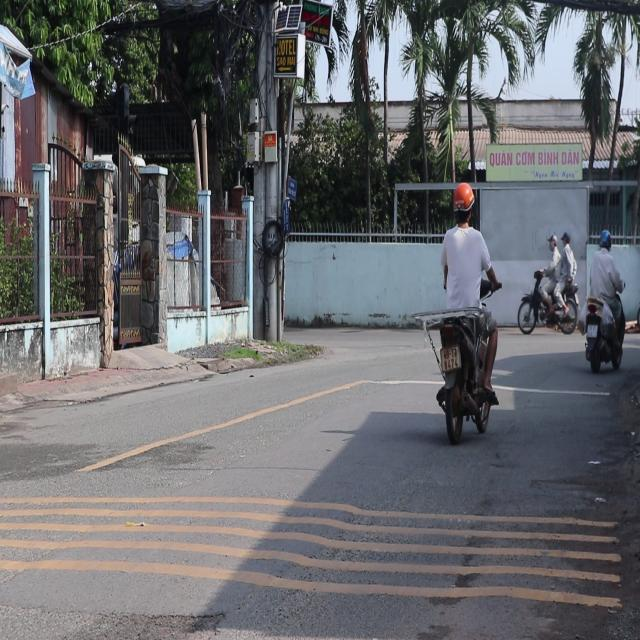helmet: (450, 180, 474, 224)
licenseplate: (424, 181, 500, 441)
nohelmet: (440, 346, 460, 372)
